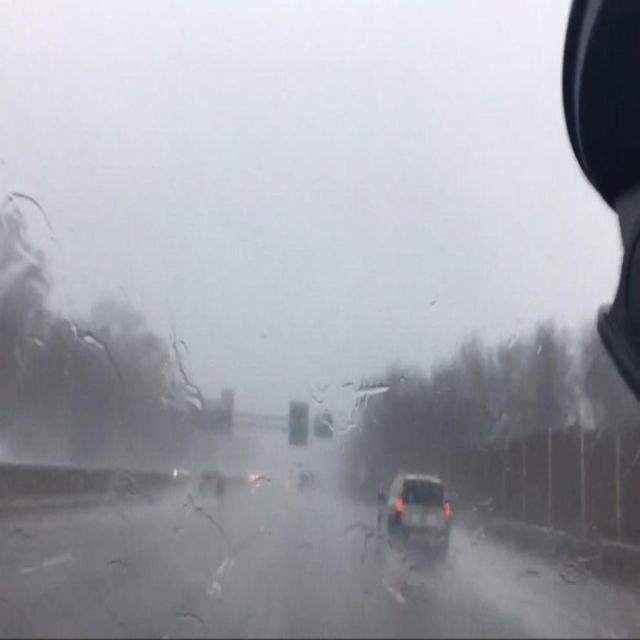Car: (380, 456, 454, 558), (286, 464, 314, 493), (199, 469, 225, 497)
